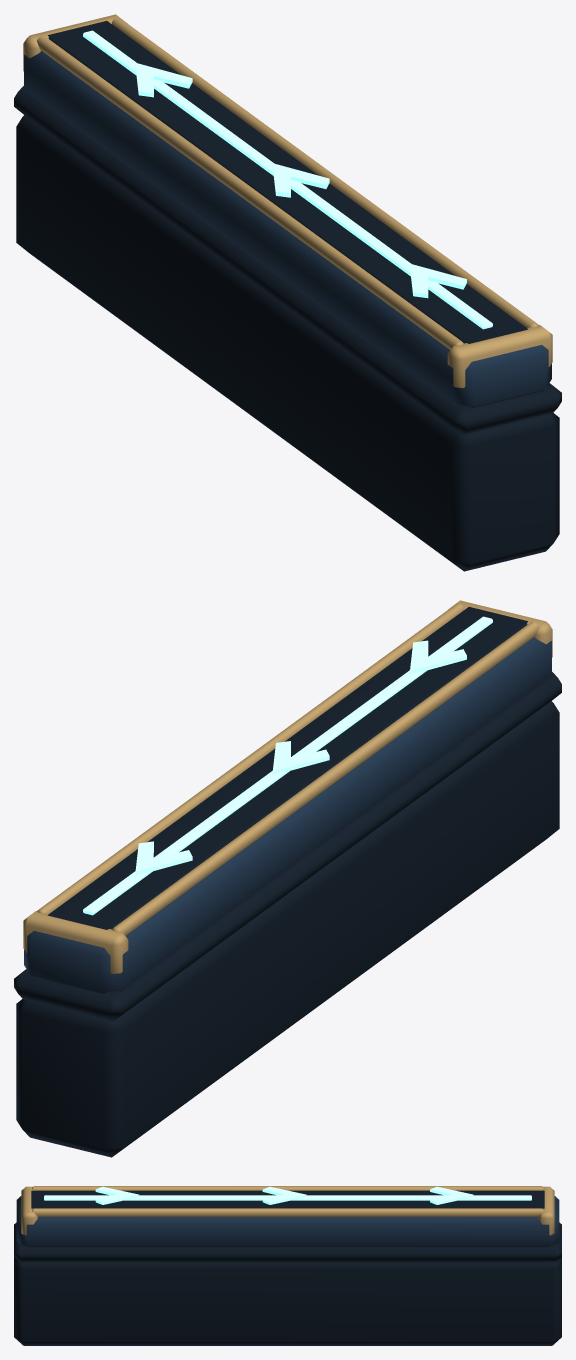
File: lumo_guide_ribbon_2m_lod1.glb
3 renders of one model, top to bottom at view 1: azimuth 30°, elevation 25°; view 2: azimuth 150°, elevation 25°; view 3: azimuth 270°, elevation 25°, orthographic. The views are drawn at different scales.
Visible parts, largest first — view 1: lumo_guide_ribbon_2m; view 2: lumo_guide_ribbon_2m; view 3: lumo_guide_ribbon_2m.
Boxes of the visible parts, <box> form: lumo_guide_ribbon_2m: <box>14,14,561,571</box>; lumo_guide_ribbon_2m: <box>14,600,561,1157</box>; lumo_guide_ribbon_2m: <box>14,1186,561,1345</box>.
Size of the model in its own units: 0.28 by 0.56 by 2.
